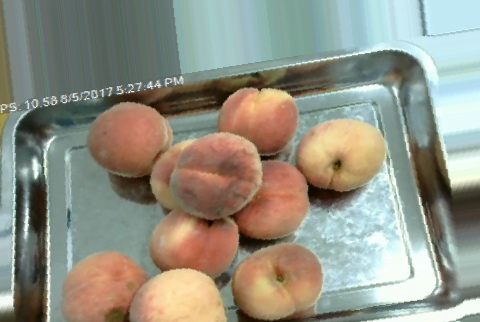Peach: (171, 132, 263, 217), (229, 241, 324, 318), (297, 115, 387, 193), (61, 249, 149, 321), (231, 161, 308, 239), (90, 102, 166, 178), (216, 86, 298, 153), (151, 212, 241, 272), (130, 267, 227, 322)
